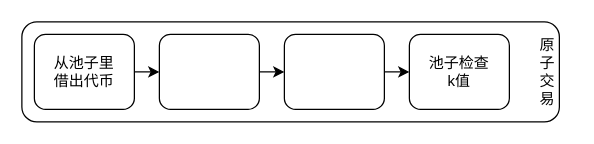
Image size: 594x144. Some labels were removed from this diagram. The centre of each missing label's shape, as x and y in pixels:
使用 代币: the point at 208,71
把代币 加手续费 还给池子: the point at 333,71
